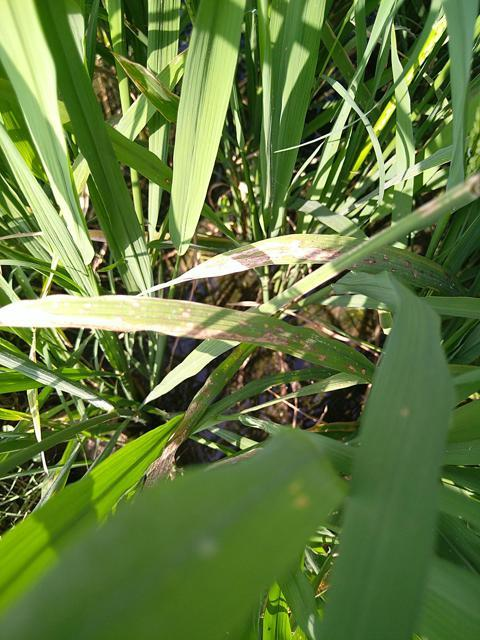Leaf Streak: (0, 295, 377, 380), (142, 343, 257, 485), (150, 235, 350, 295), (114, 55, 178, 123), (356, 258, 459, 295)
